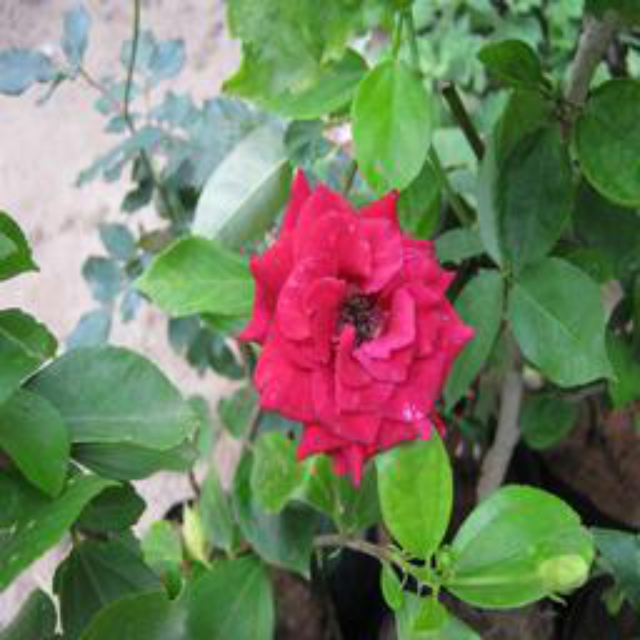rose: (237, 167, 473, 481)
